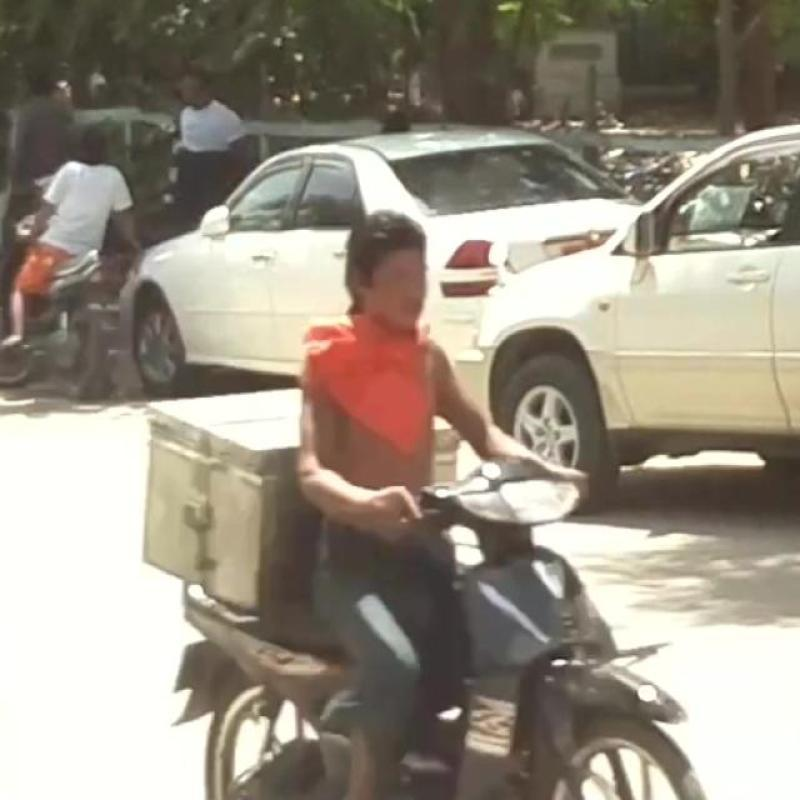nohelmet: (322, 204, 461, 342)
